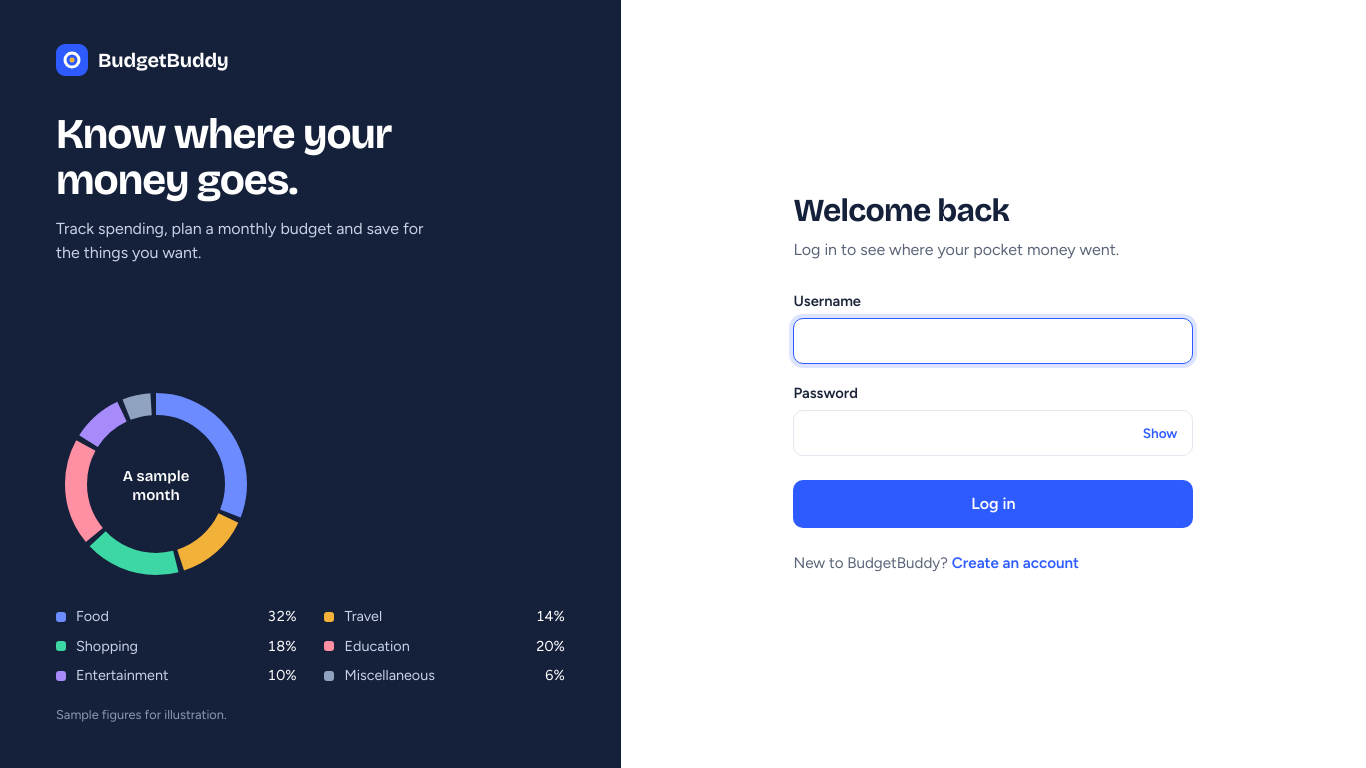
Test: Login page › asks for a username and password when the form is empty
Click the button "Log in".
click(993, 504)  # box top-left (793, 480), bottom-right (1193, 528)
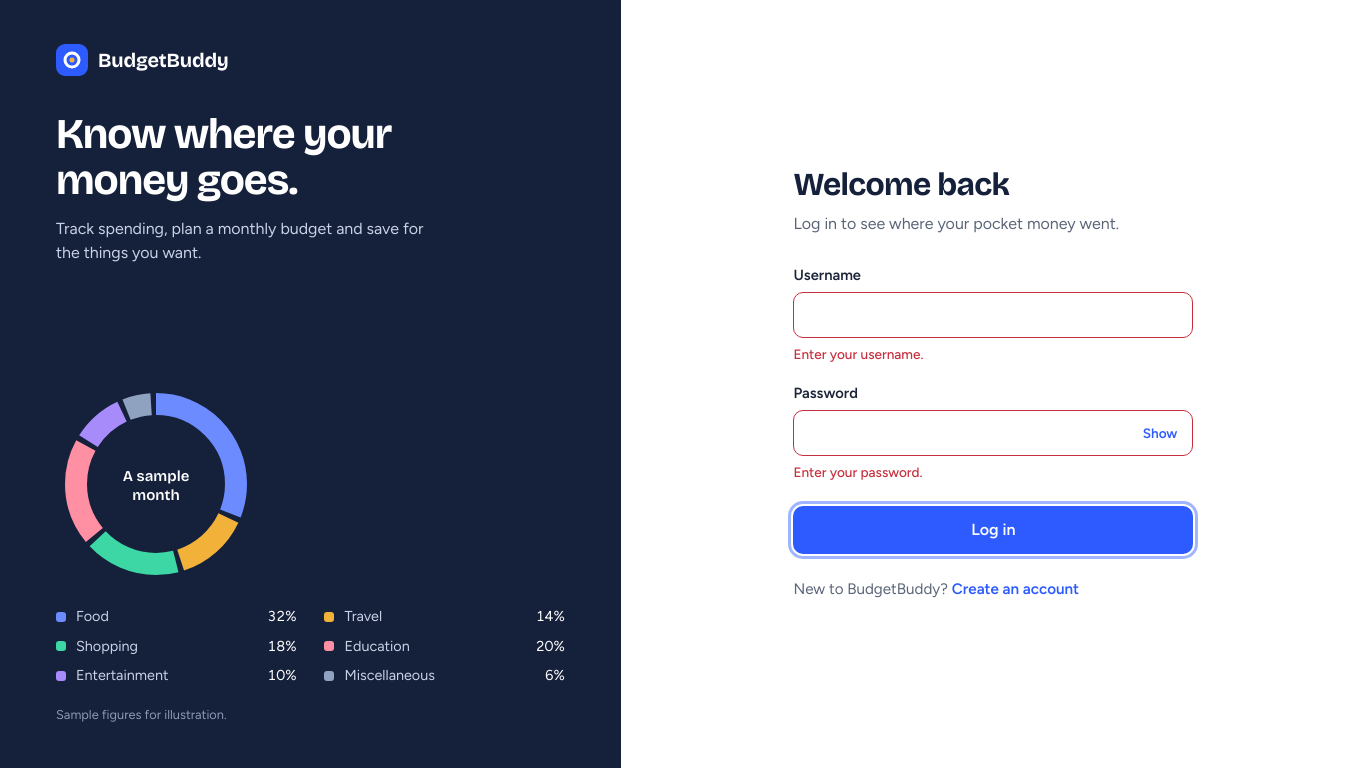
Expected: the text "Enter your username." is shown, top-left (793, 346), bottom-right (923, 362)
Expected: the text "Enter your password." is shown, top-left (793, 464), bottom-right (922, 480)
